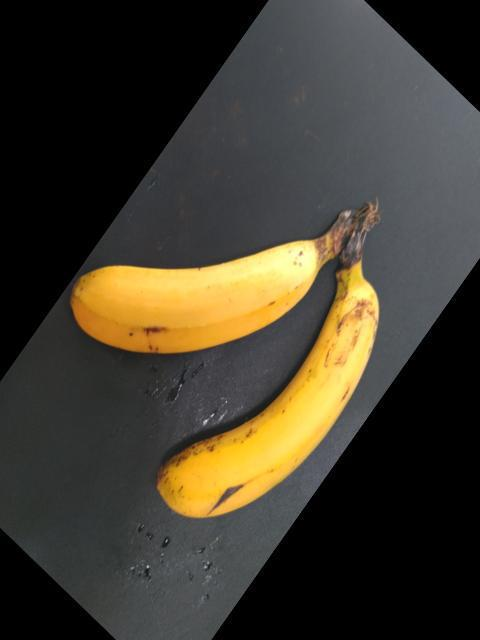freshripe: (63, 244, 316, 354)
ripe: (143, 262, 394, 549)
